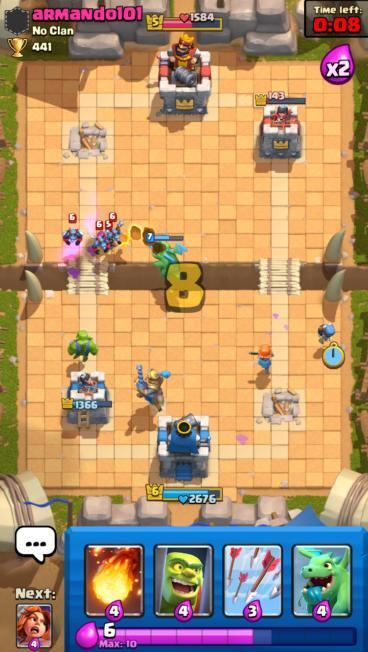ally_baby_dragon: (144, 230, 191, 281)
ally_bomber: (316, 320, 337, 350)
ally_brawler: (66, 330, 100, 363)
ally_prince: (132, 361, 171, 414)
ally_valkyrie: (250, 345, 275, 375)
enemy_minion: (61, 212, 85, 247), (90, 220, 113, 255), (103, 212, 124, 245)
enemy_musketeer: (101, 219, 118, 253)
